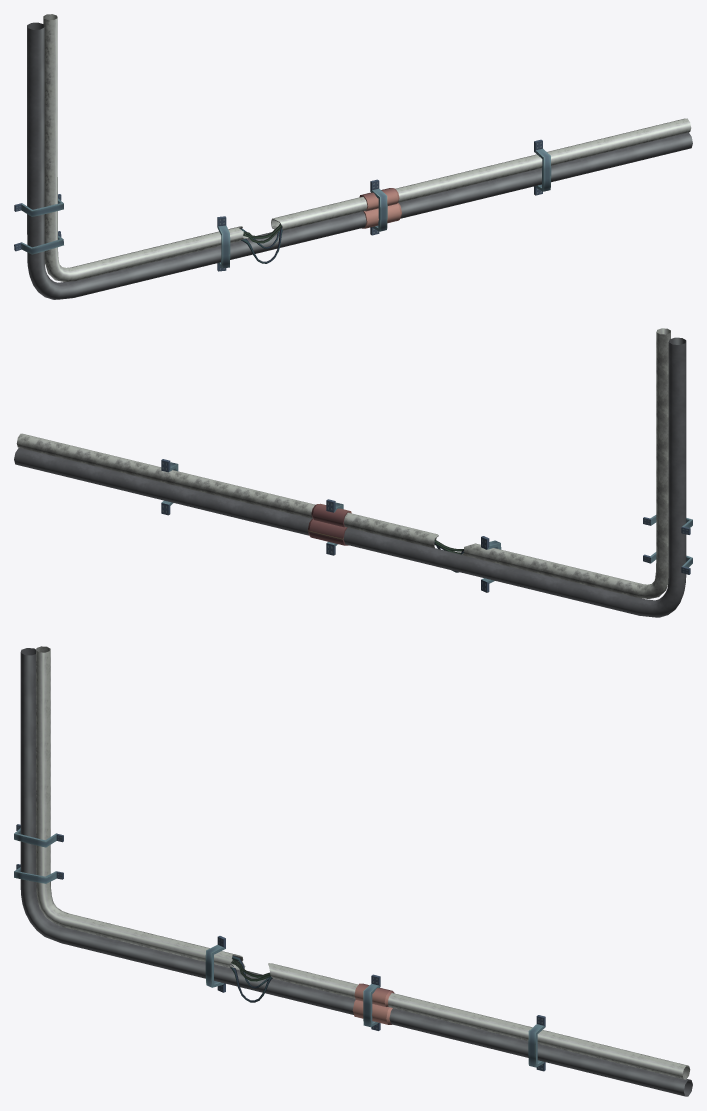
Rendered from Pipe_01.fbx.
The picture shows the model from 3 angles, top to bottom: view 1: azimuth 30°, elevation 25°; view 2: azimuth 150°, elevation 25°; view 3: azimuth 330°, elevation 25°; orthographic projection.
Visible parts, largest first — view 1: sweep3, sweep13, Pipe_Connector20, Pipe_Connector19, Pipe_Connector21, sweep24, sweep25; view 2: sweep3, sweep13, sweep24, sweep25; view 3: sweep3, sweep13.
Part boxes in pixels (x1,y1,x2,y2): sweep3: (27, 22, 692, 299); sweep13: (43, 14, 691, 281); Pipe_Connector20: (370, 179, 387, 235); Pipe_Connector19: (534, 139, 551, 195); Pipe_Connector21: (217, 216, 230, 271); sweep24: (362, 203, 401, 228); sweep25: (359, 188, 399, 211); sweep3: (14, 337, 686, 617); sweep13: (16, 328, 670, 598); sweep24: (308, 519, 348, 545); sweep25: (311, 503, 351, 527); sweep3: (20, 648, 692, 1096); sweep13: (36, 646, 690, 1079).
Size of the model in its own units: 1416 by 603 by 46.69.
